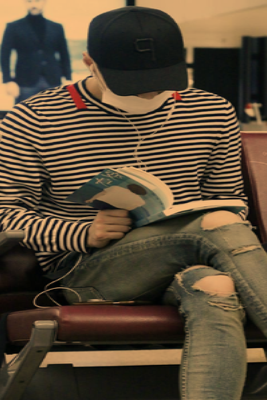mask_weared_incorrect: (96, 76, 171, 116)
